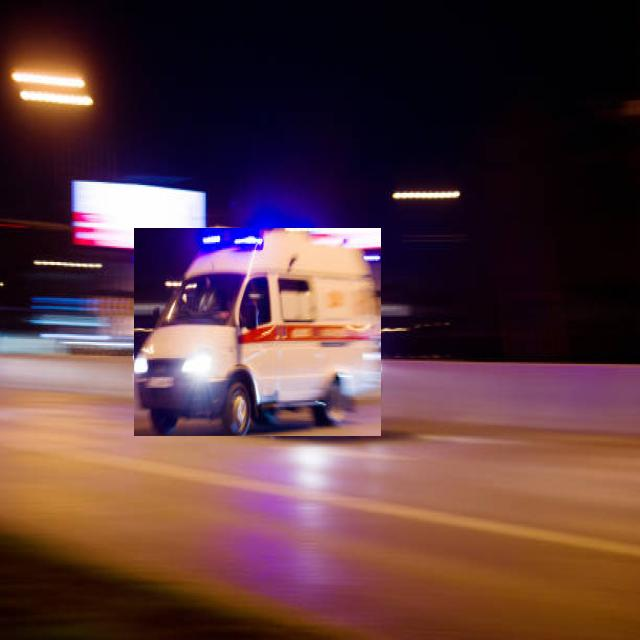emergency: (134, 229, 381, 436)
